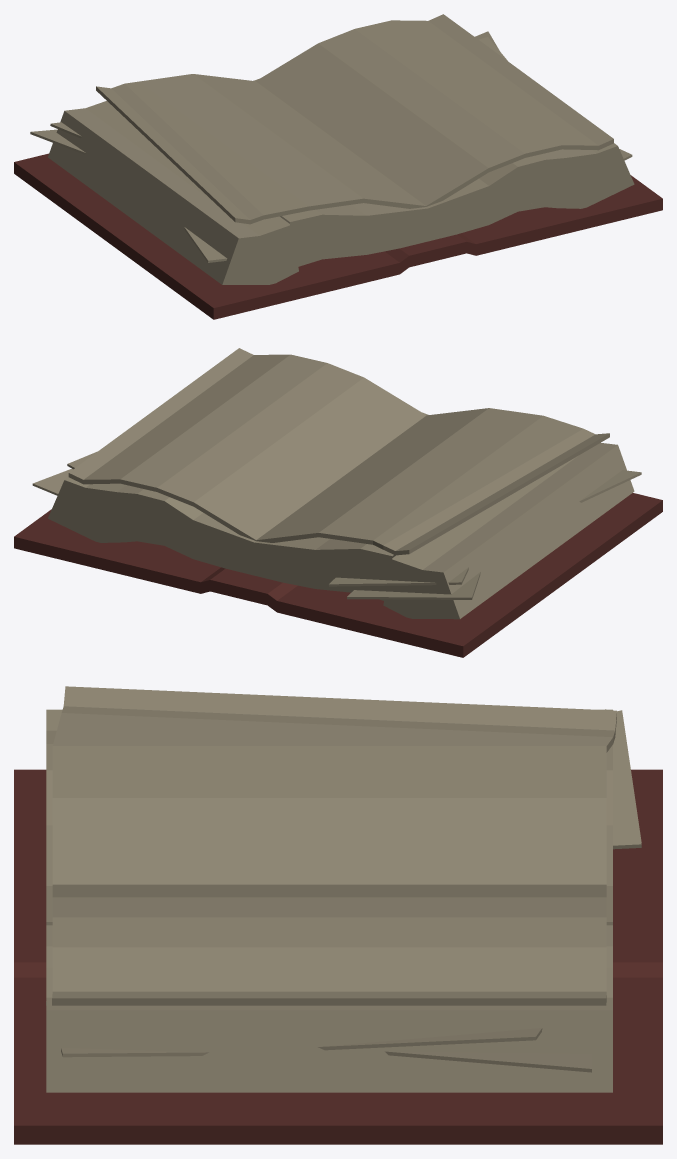
File: Book2_Open.glb
3 views of the same model, one above another, from view 1: azimuth 30°, elevation 25°; view 2: azimuth 150°, elevation 25°; view 3: azimuth 270°, elevation 25° (orthographic). The views are drawn at different scales.
Visible parts, largest first — view 1: Book2_Open_Cube.117; view 2: Book2_Open_Cube.117; view 3: Book2_Open_Cube.117.
Part boxes in pixels (left/top/right/bottom): Book2_Open_Cube.117: left=14, top=14, right=662, bottom=319; Book2_Open_Cube.117: left=14, top=348, right=662, bottom=657; Book2_Open_Cube.117: left=14, top=686, right=662, bottom=1144.
Size of the model in its own units: 0.9292 by 0.1657 by 0.7103.
